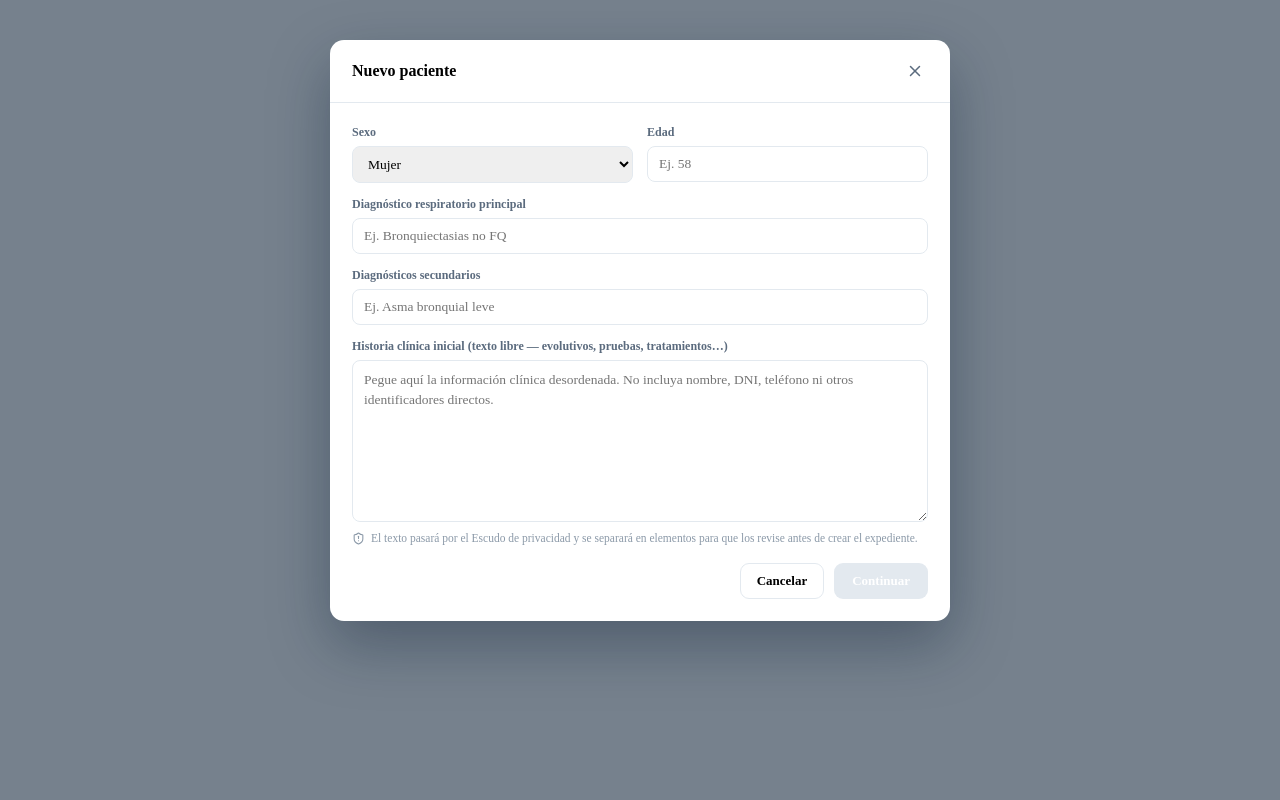
Test: NewPatientModal › no crea el paciente al pulsar 'Continuar': primero muestra la revisión de lo detectado, sin Consulta cuando el texto no narra nada (solo datos objetivos)
This screenshot has width=1280, height=800.
Type "Bronquiectasias no FQ" into the field with placeholder "Ej. Bronquiectasias no FQ" at x=640, y=236, box [352, 218, 928, 254]
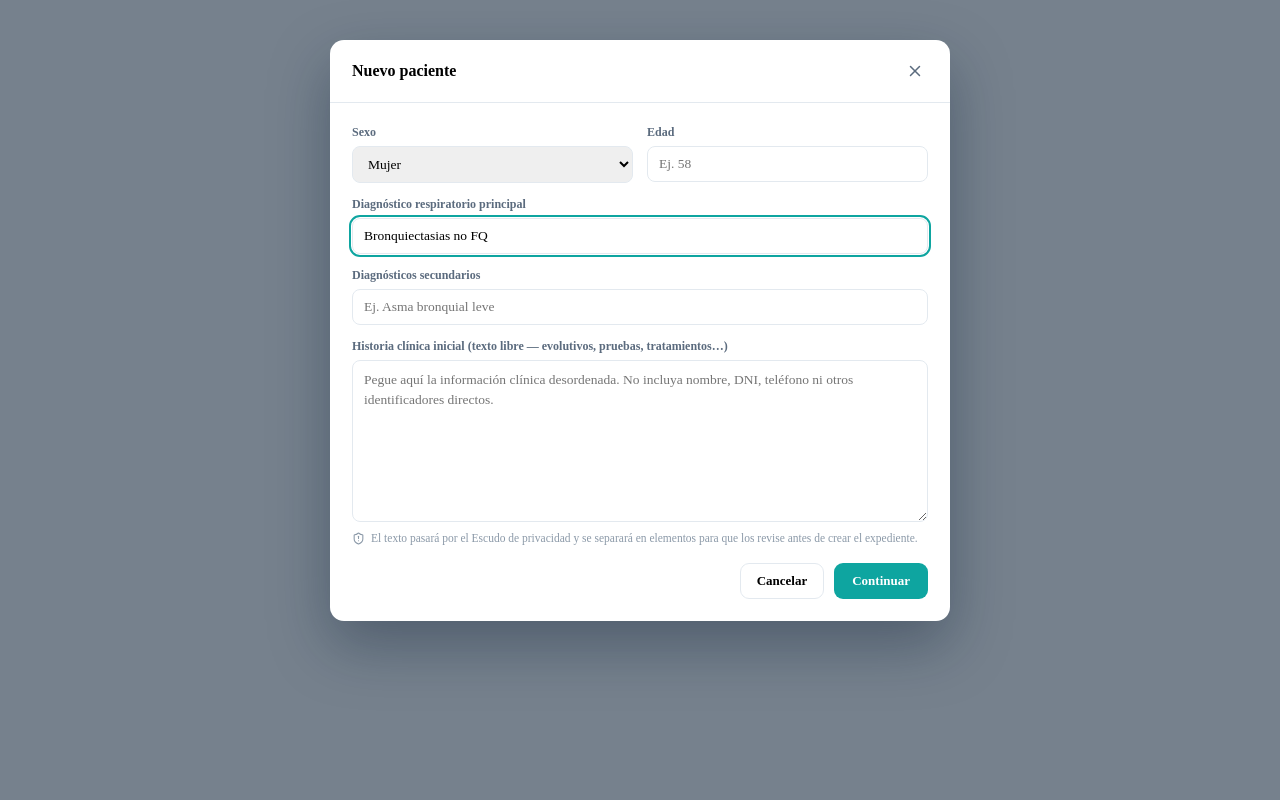
Type "FEV1 72%. Cultivo con Pseudomonas aeruginosa." into the text box with placeholder "Pegue aquí la información clínica desordenada" at x=640, y=441, box [352, 360, 928, 522]
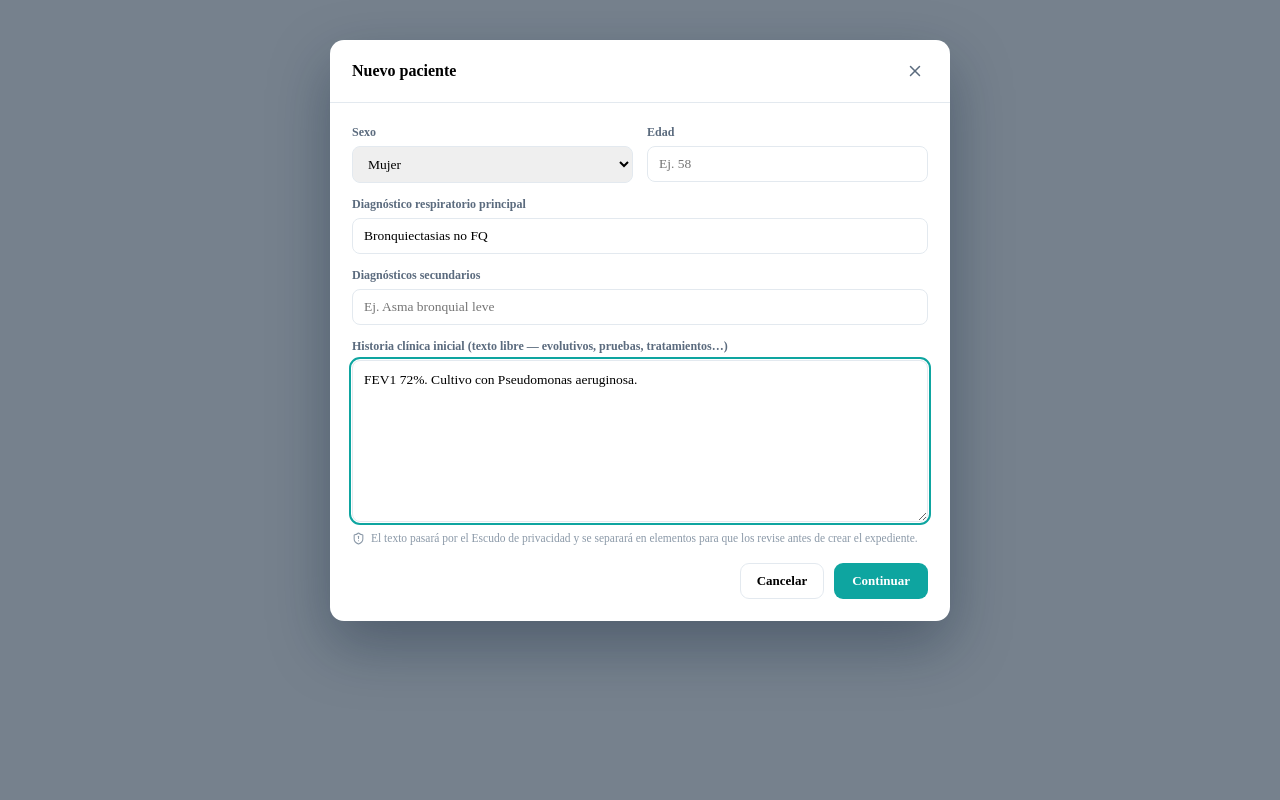
Click the button "Continuar" at x=881, y=581, box [834, 563, 928, 599]
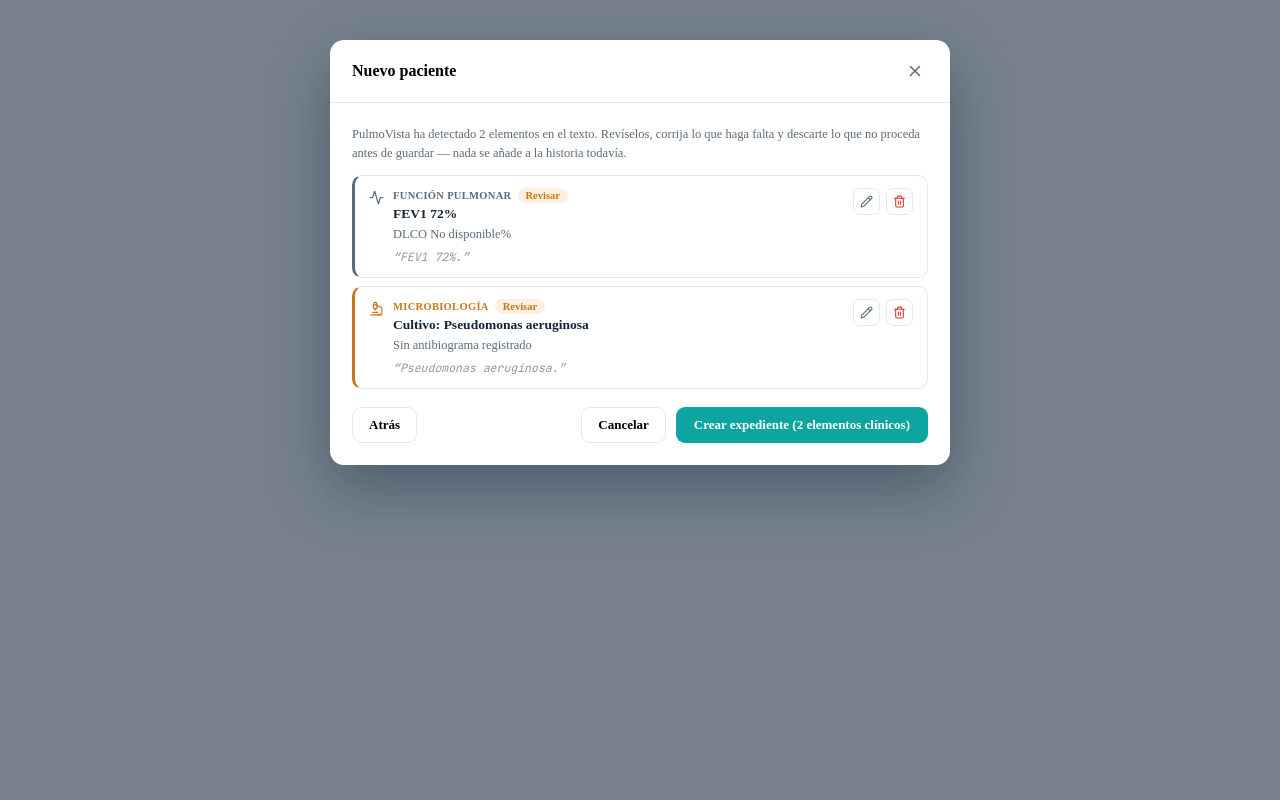
Check: the text "Función pulmonar" is shown, box [393, 190, 512, 200]
Check: the text "Microbiología" is shown, box [393, 301, 489, 312]
